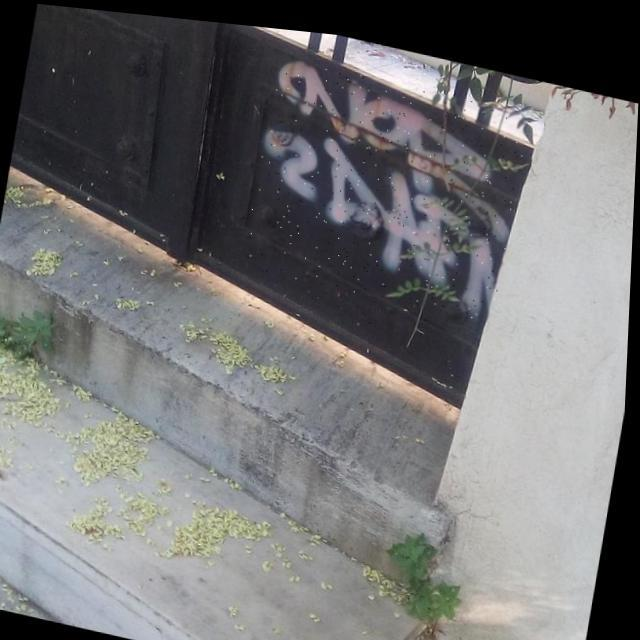-: (242, 47, 531, 315)
